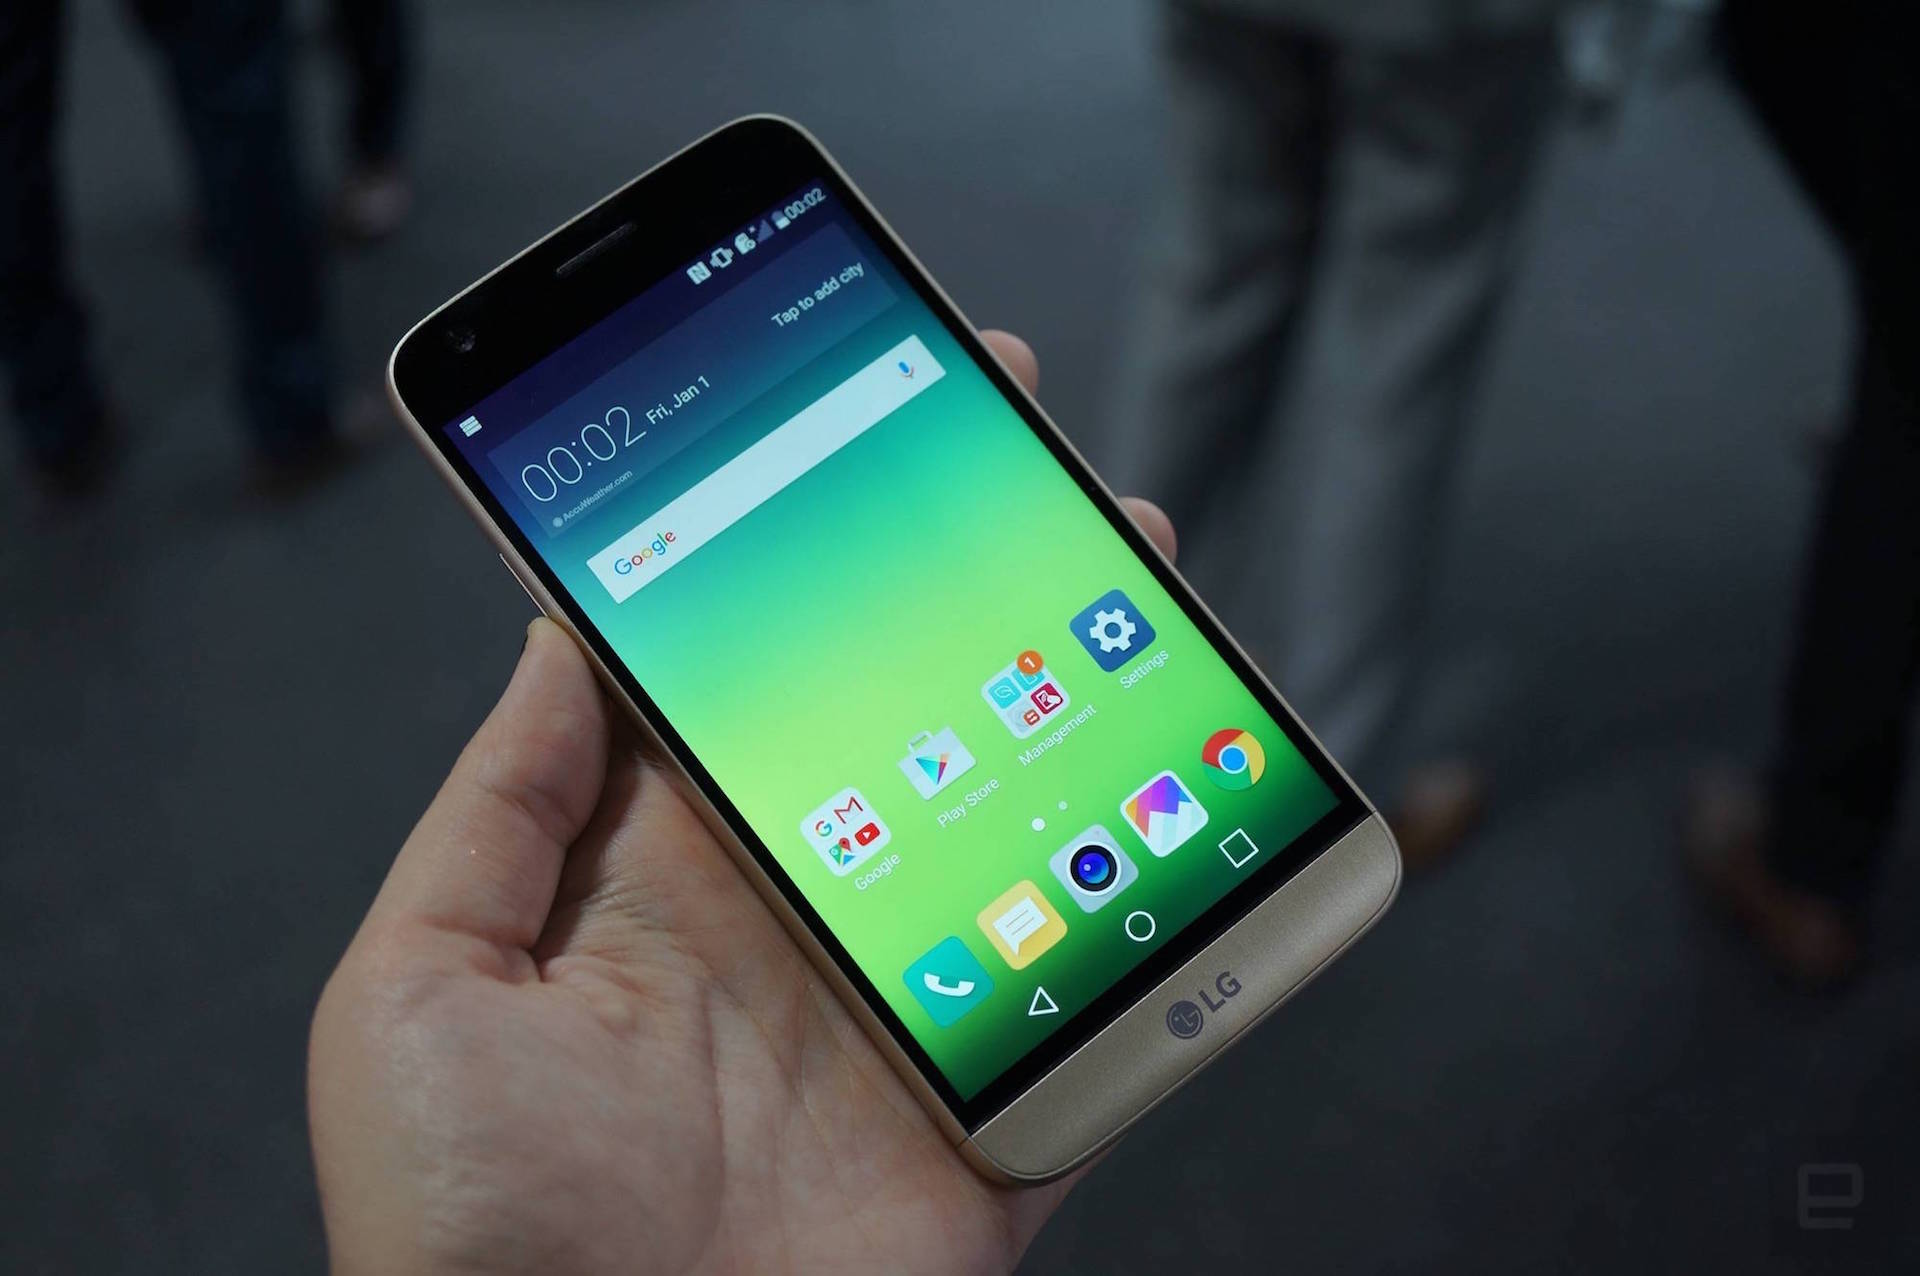smartphone: (377, 107, 1406, 1191)
